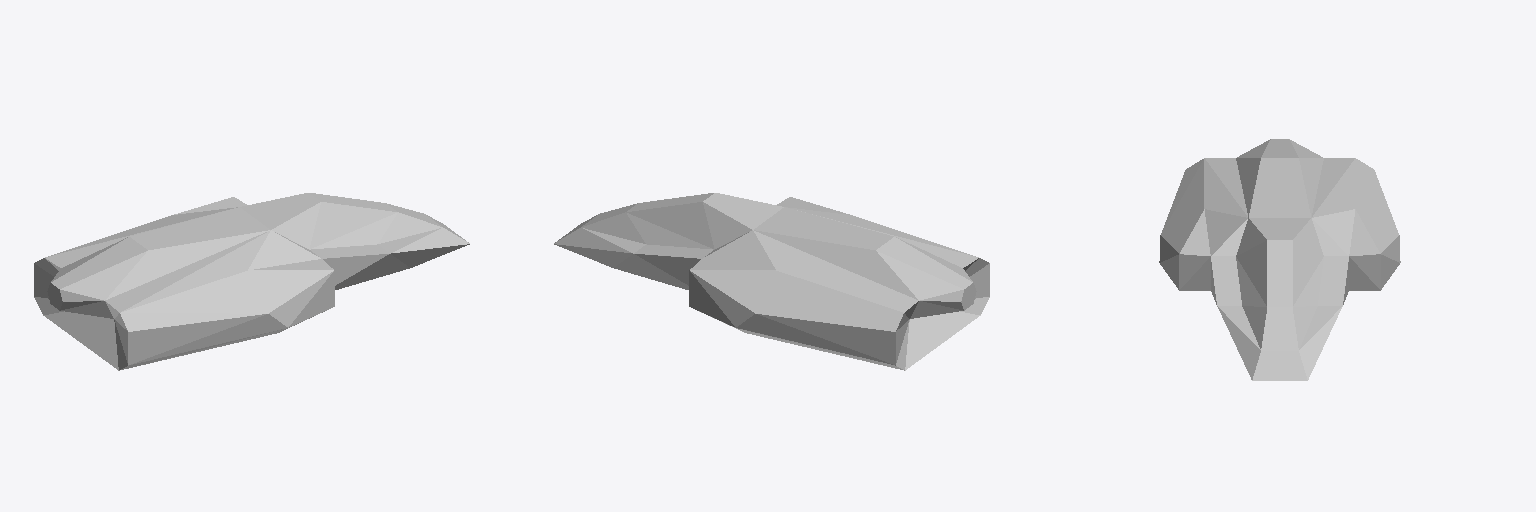
File: blue_falcon_wingless.obj
3 views of the same model, side by side, from view 1: azimuth 30°, elevation 25°; view 2: azimuth 150°, elevation 25°; view 3: azimuth 270°, elevation 25° (orthographic).
Parts seen in each view (by area): view 1: polygon0_polygon0.001; view 2: polygon0_polygon0.001; view 3: polygon0_polygon0.001.
Boxes of the visible parts, x1,y1,x2,y2 form: polygon0_polygon0.001: [34, 193, 469, 370]; polygon0_polygon0.001: [554, 193, 989, 370]; polygon0_polygon0.001: [1159, 139, 1400, 380].
Bounding box in the file's own units: 55.29 × 11.7 × 28.74.